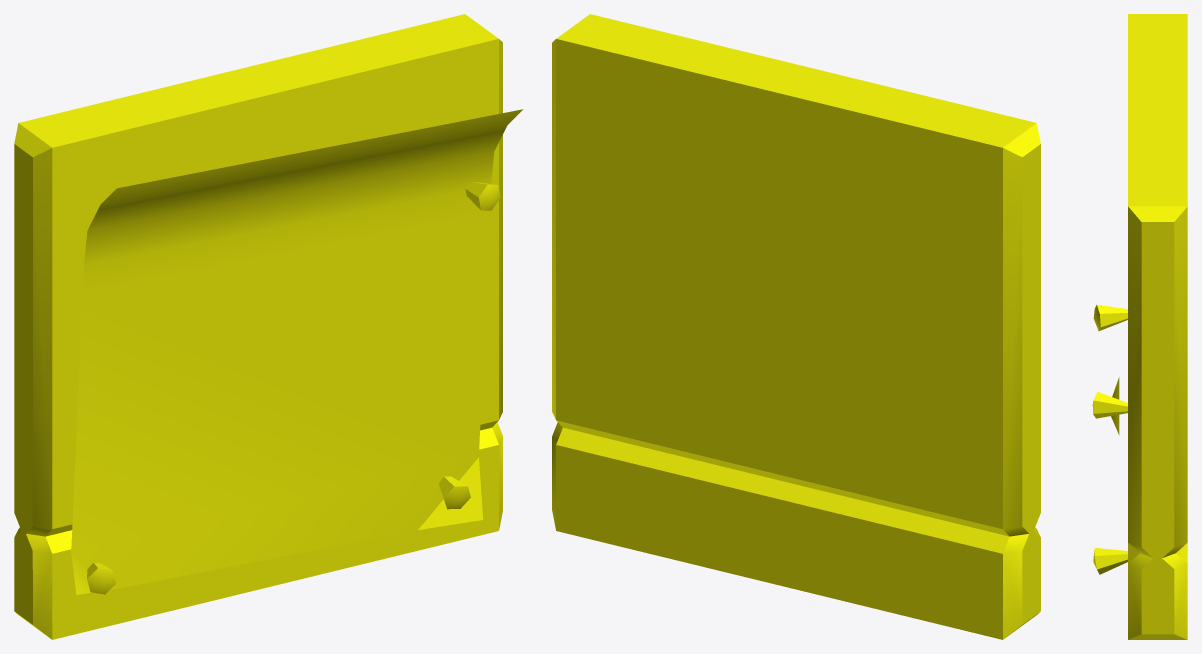
File: kaykit-wall-target.glb
The picture shows the model from 3 angles, left to right: view 1: azimuth 30°, elevation 25°; view 2: azimuth 150°, elevation 25°; view 3: azimuth 270°, elevation 25°; orthographic projection. The views are drawn at different scales.
Parts seen in each view (by area): view 1: Wall_Target; view 2: Wall_Target; view 3: Wall_Target.
Part boxes in pixels (box(x1,y1,x2,y2)): Wall_Target: box(14, 14, 522, 639); Wall_Target: box(552, 14, 1040, 639); Wall_Target: box(1092, 14, 1187, 639).
Size of the model in its own units: 4 by 4 by 0.9912.
